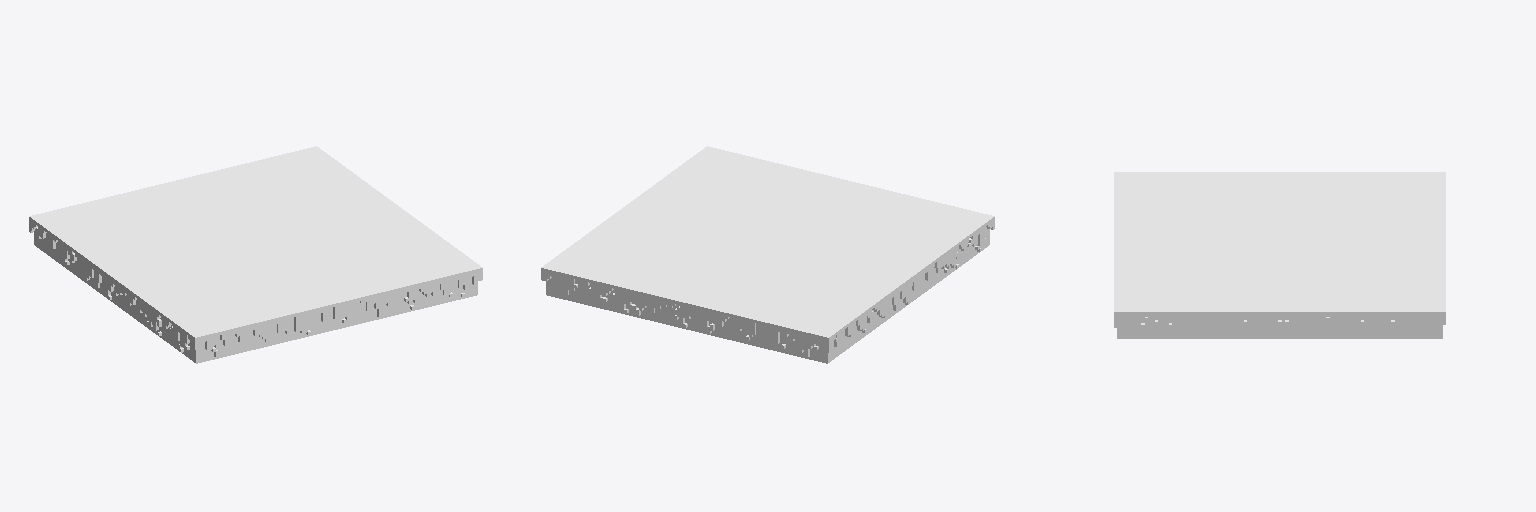
The model's file is graund_2.obj.
3 views of the same model, side by side, from view 1: azimuth 30°, elevation 25°; view 2: azimuth 150°, elevation 25°; view 3: azimuth 270°, elevation 25° (orthographic).
Parts seen in each view (by area): view 1: object 1; view 2: object 1; view 3: object 1.
Boxes of the visible parts, <box> form: object 1: <box>29,146,482,363</box>; object 1: <box>541,146,994,363</box>; object 1: <box>1114,172,1445,338</box>.
Bounding box in the file's own units: 9.7 × 0.9 × 9.7.